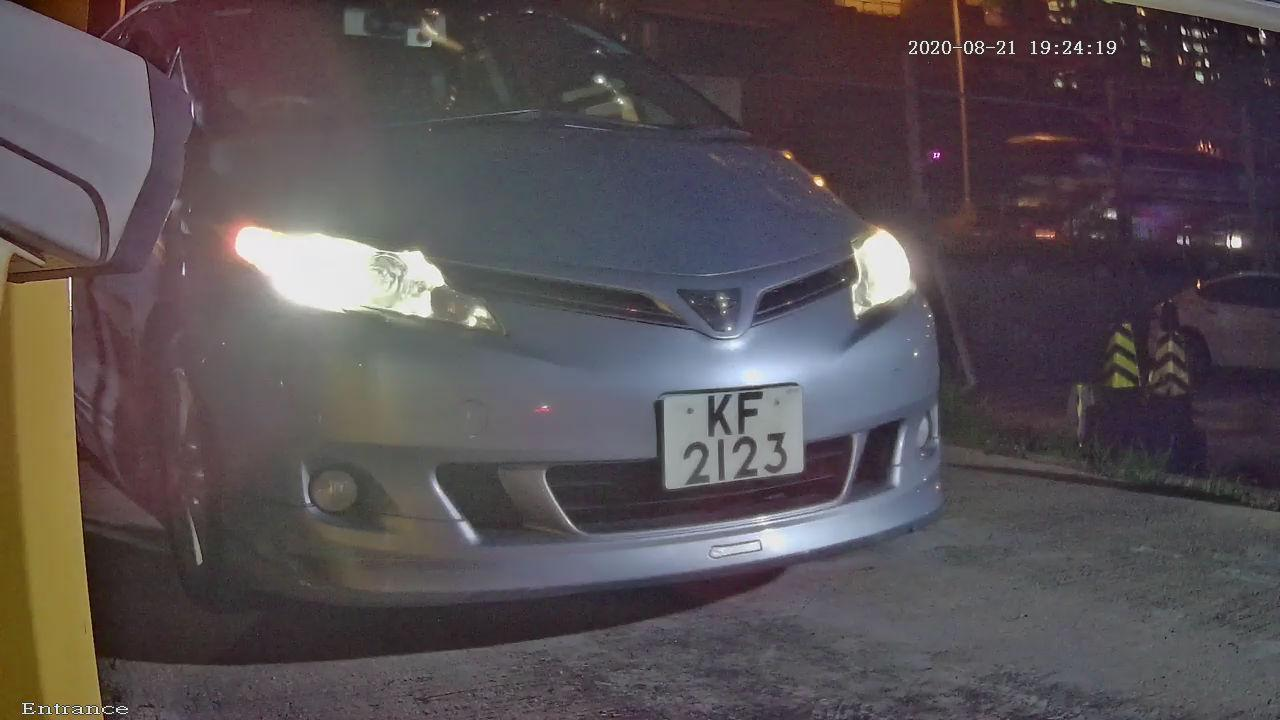Car: (41, 1, 1006, 672)
License Plate: (646, 380, 823, 496)
